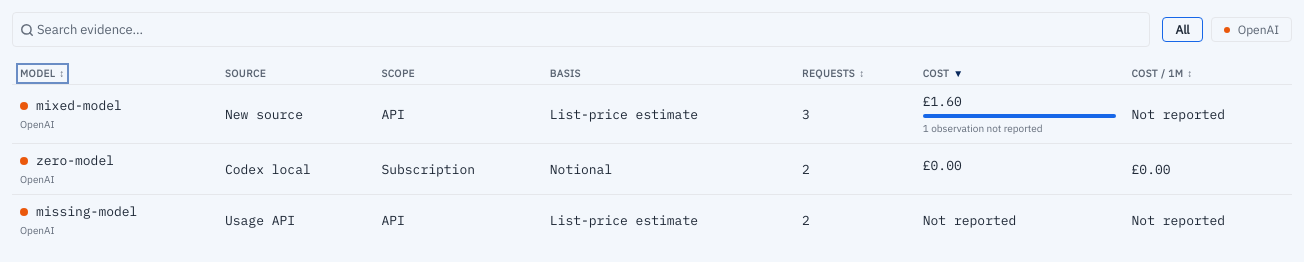
renders provenance, missing and mixed cost truth, and native filter/sort controls
Check: the column heading "Source" is shown, box [217, 63, 373, 84]
Check: the column heading "Scope" is shown, box [373, 63, 542, 84]
Press Enter
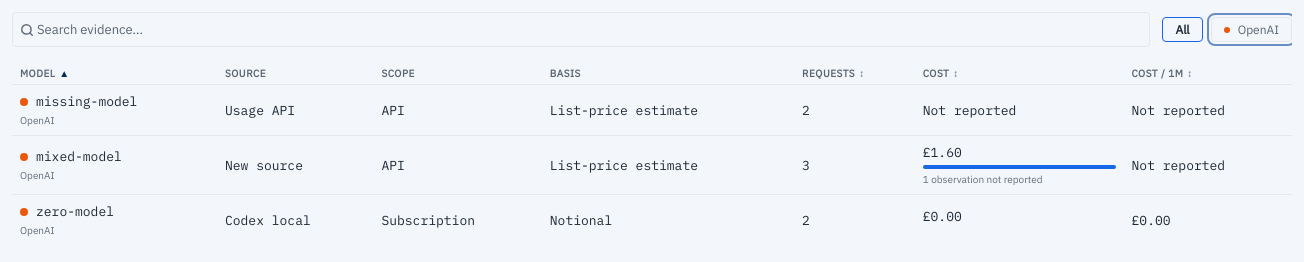
Check: the column heading named "sort by model" has attribute aria-sort="ascending", box [12, 63, 217, 84]
Press Enter
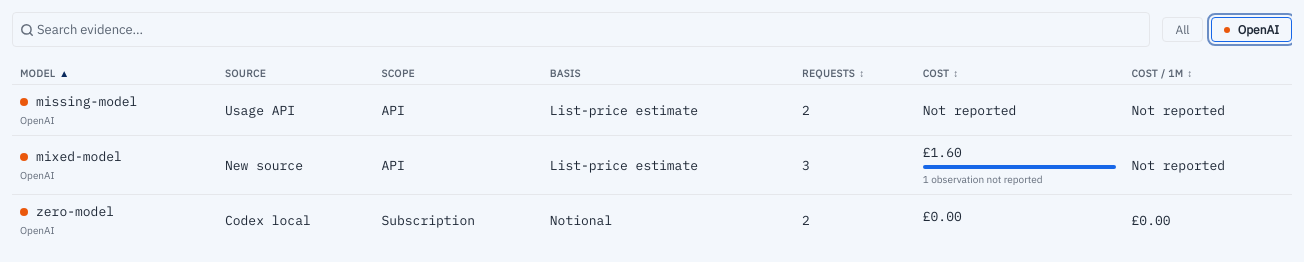
Check: the button "OpenAI" is pressed, box [1211, 17, 1292, 42]
Type "mixed" into the field named "Search models".
click(581, 30); type("mixed")  # box [12, 12, 1150, 47]
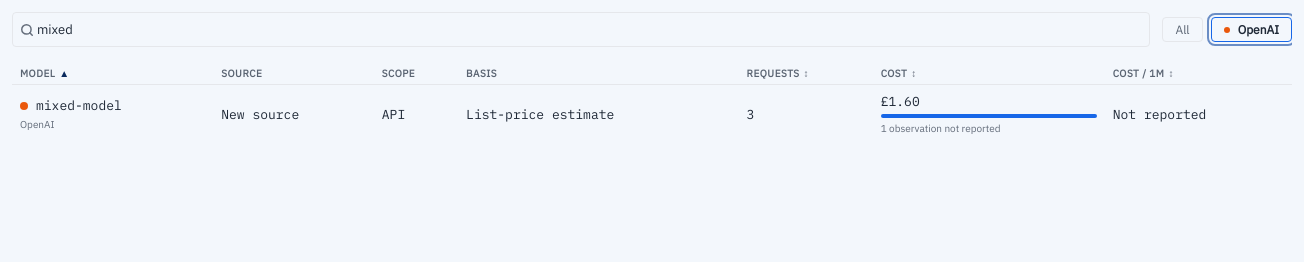
Check: the text "zero-model" is gone
